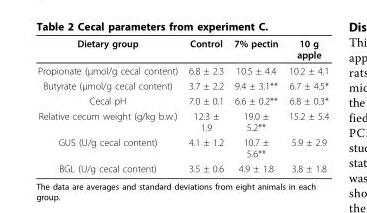table: (36, 37, 328, 173)
table column: (36, 37, 182, 173), (228, 37, 282, 173), (182, 37, 228, 173), (282, 37, 328, 173)
table column header: (36, 37, 328, 62)
table row: (36, 108, 328, 134), (36, 134, 328, 160), (36, 37, 328, 62), (36, 92, 328, 108), (36, 62, 328, 77), (36, 77, 328, 92), (36, 160, 328, 173)
